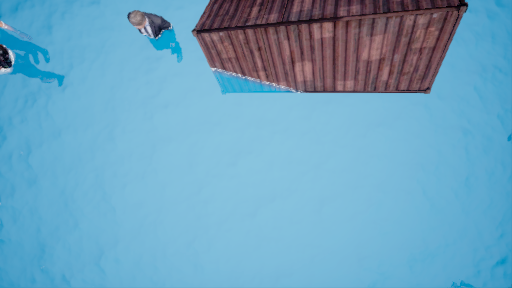person: (120, 10, 187, 65)
